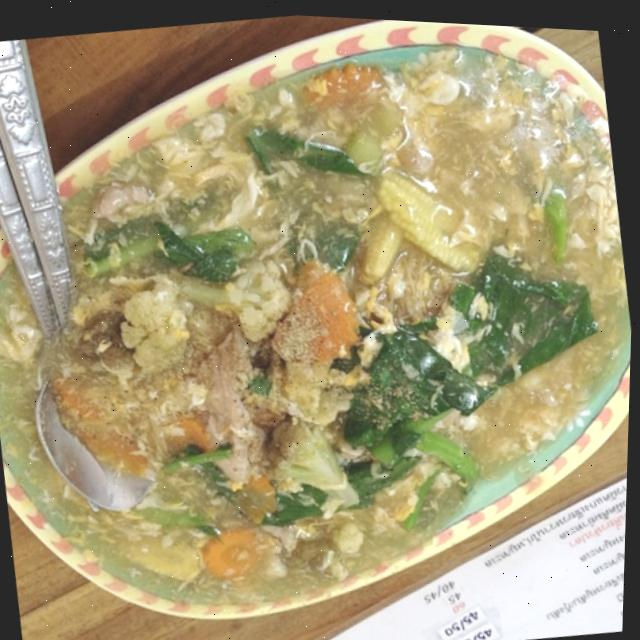面条主食: (0, 4, 640, 637)
